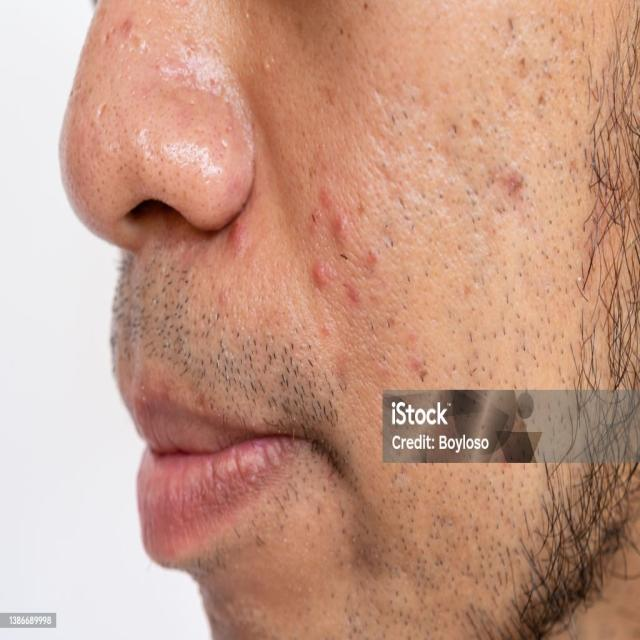blackhead: (65, 51, 242, 222), (321, 8, 359, 56)
papule: (323, 205, 357, 249), (224, 214, 252, 261), (306, 254, 335, 294), (500, 163, 525, 202), (313, 180, 339, 210), (344, 276, 366, 306), (362, 241, 384, 266)
